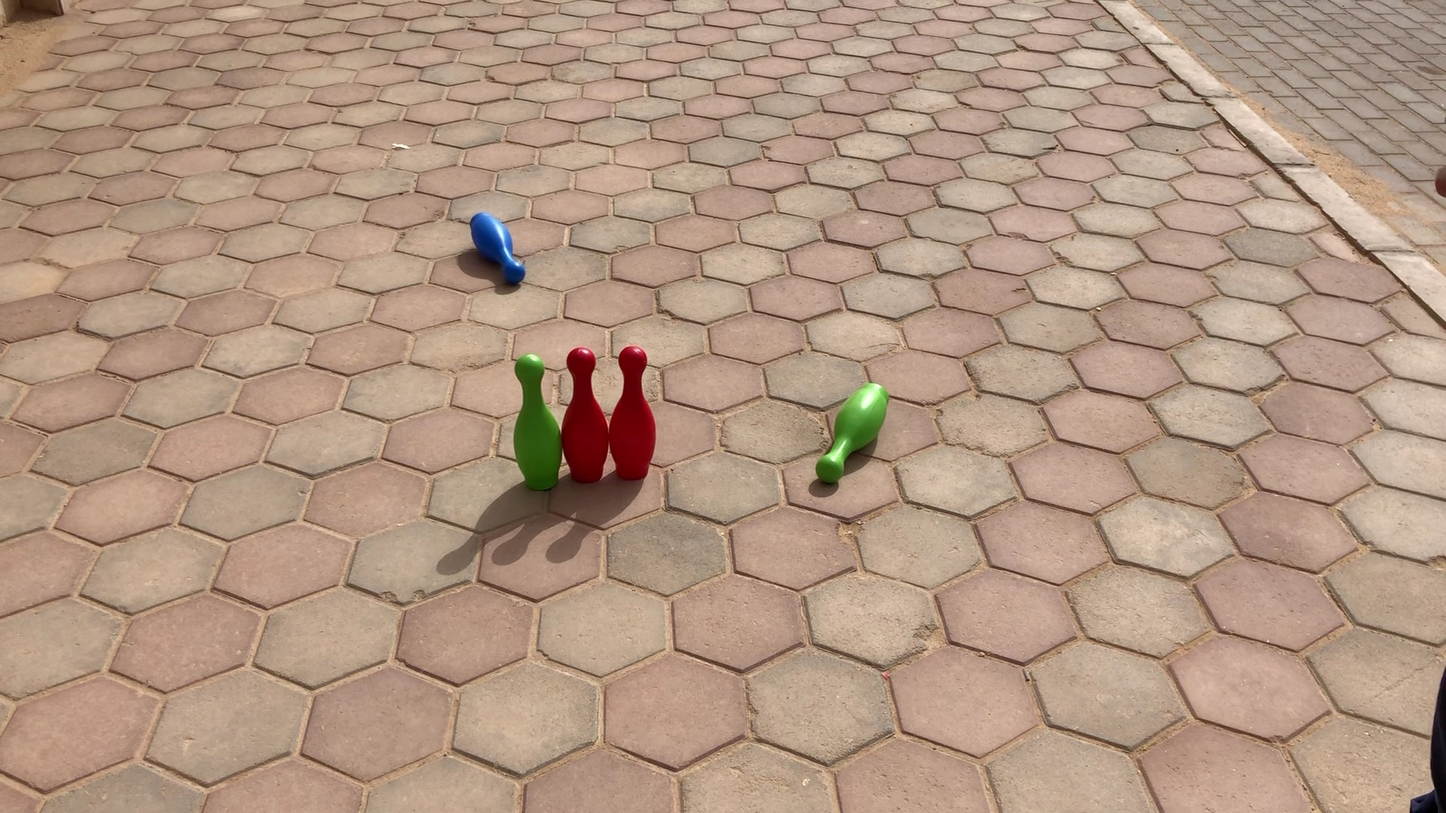bowling-pin: (517, 352, 565, 488), (818, 384, 883, 484), (564, 348, 610, 483), (610, 346, 655, 480), (471, 213, 526, 285)
